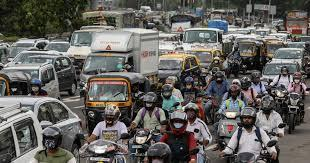helmet: (169, 110, 188, 136), (42, 126, 63, 149), (240, 107, 257, 129), (104, 104, 121, 125), (183, 102, 199, 120), (143, 92, 158, 111), (260, 94, 275, 112), (228, 84, 241, 100), (161, 84, 174, 99), (29, 78, 42, 92), (183, 77, 194, 90), (214, 70, 224, 84), (280, 66, 290, 77), (293, 72, 302, 84)
